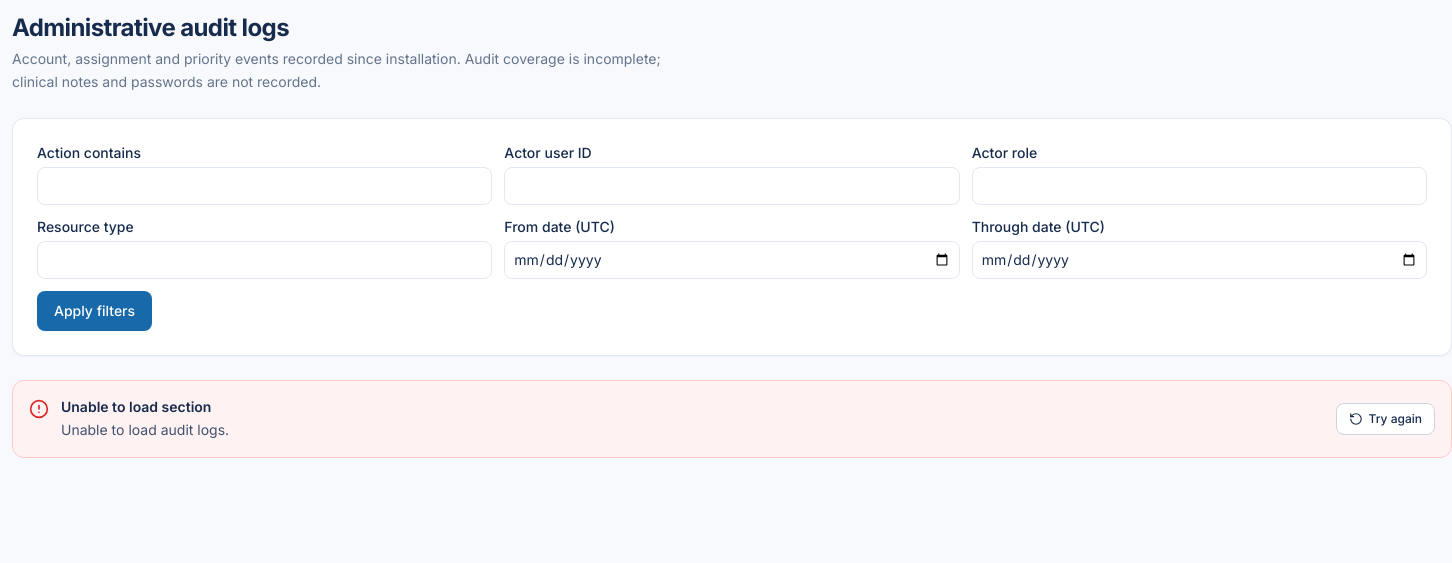
surfaces and retries a loading error
The width and height of the screenshot is (1452, 563).
Expected: the message shows "Unable to load audit logs.", x1=61 y1=420 x2=229 y2=438
Click the button "Try again" at (1385, 419), box x1=1336 y1=403 x2=1435 y2=435
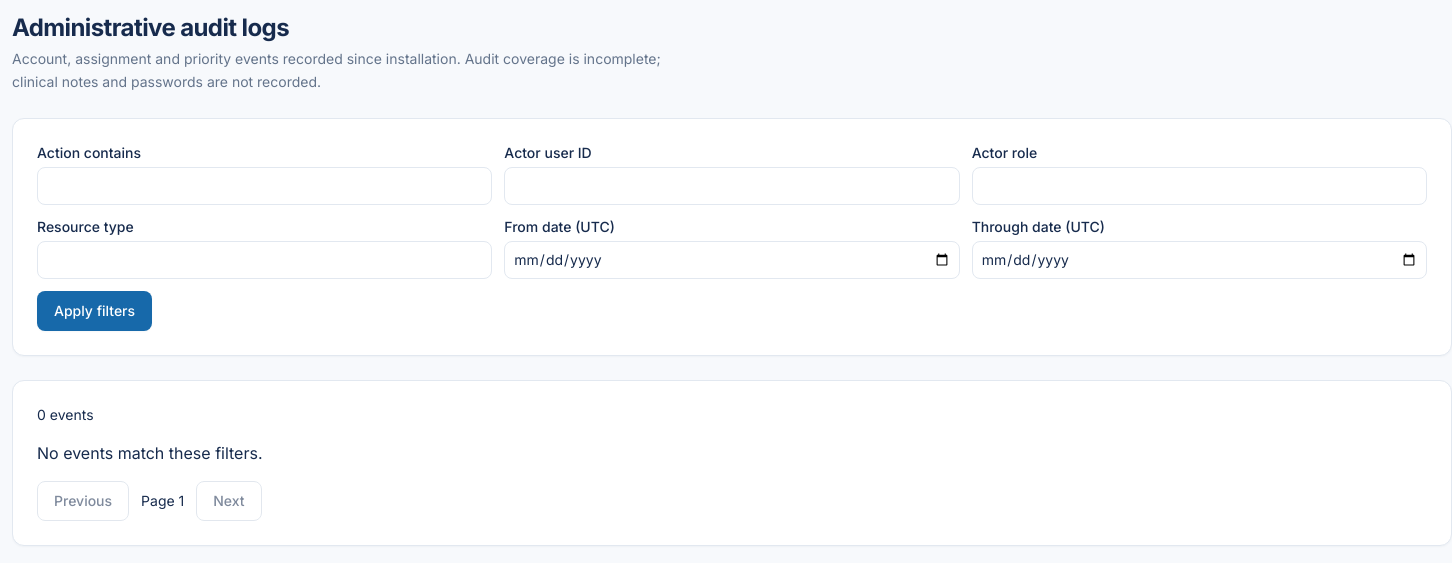
Now the text "No events match these filters." is shown, box x1=37 y1=442 x2=262 y2=462
